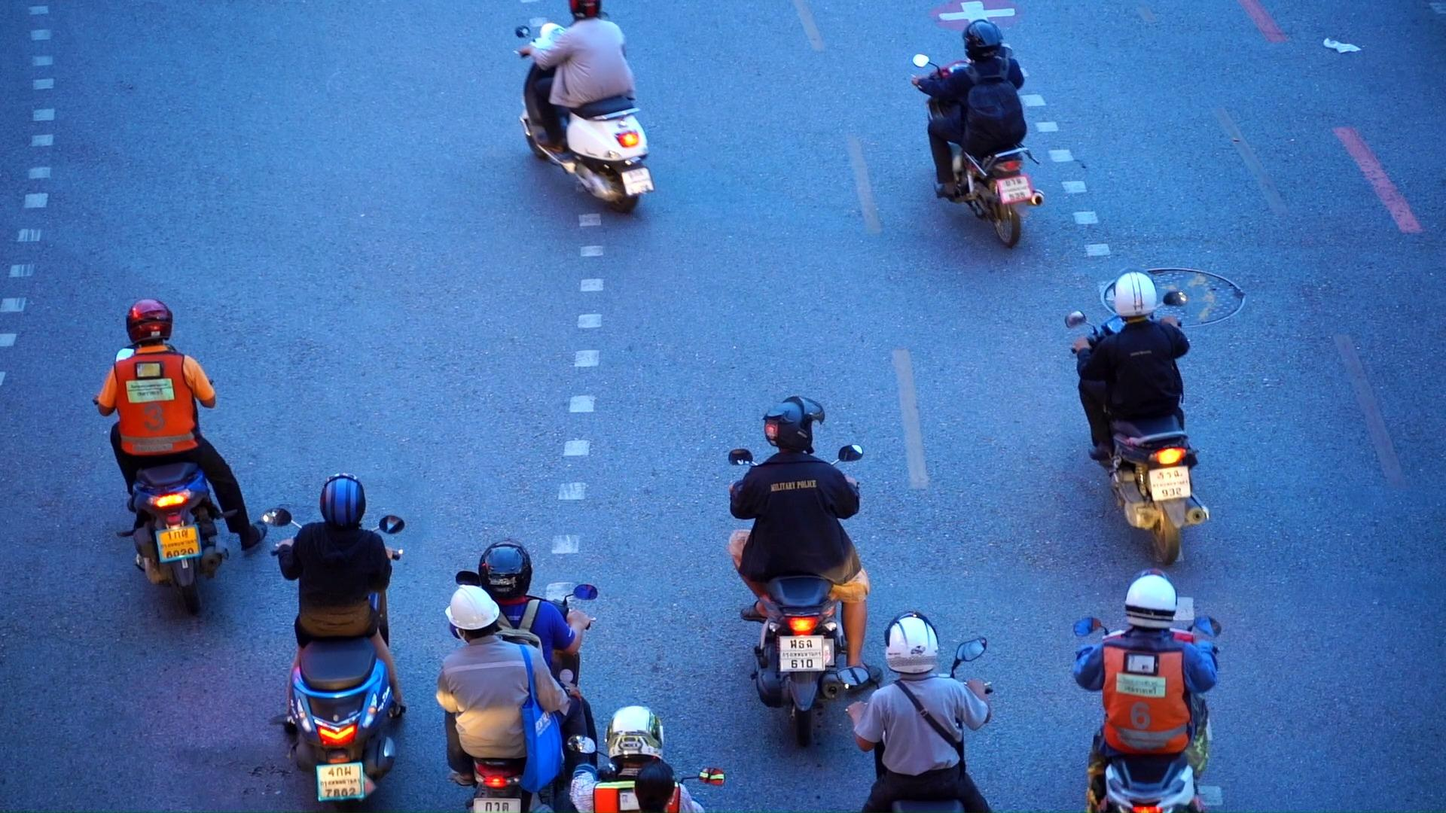driver: (92, 297, 266, 613), (729, 397, 882, 746), (261, 472, 408, 813), (436, 539, 597, 813), (1067, 266, 1210, 567), (1072, 569, 1221, 813), (845, 609, 996, 813), (911, 20, 1045, 248), (515, 0, 654, 215), (566, 706, 723, 813)
helmet: (604, 706, 664, 768), (884, 610, 940, 676), (763, 396, 825, 453), (478, 538, 533, 601), (444, 584, 499, 645), (1124, 568, 1178, 630), (319, 473, 366, 528), (1113, 266, 1157, 323), (126, 298, 173, 345), (962, 19, 1003, 65), (568, 0, 601, 22)
no-helmet: (633, 759, 676, 813)
